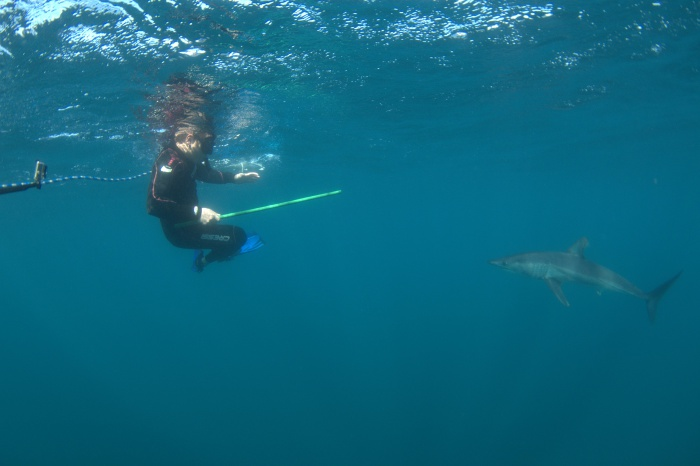Mako: (479, 236, 686, 326)
